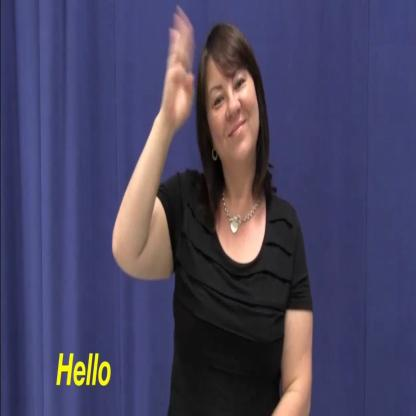Hello: (110, 3, 318, 416)
